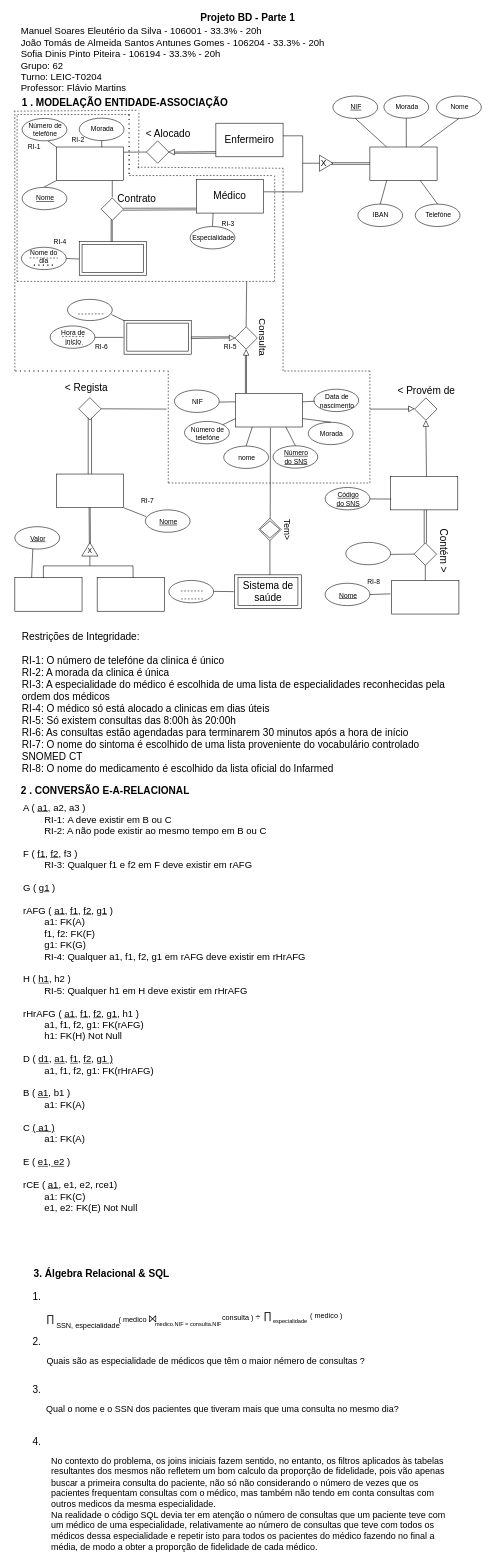
Some shapes in this 495 by 1566 pixel diagram are drawn without their labels. The box of each missing label's shape, as (x1, y1, x2, y2) in pixels:
Clinica: (56, 146, 123, 181)
data: (67, 299, 112, 321)
Dia da semana: (81, 244, 144, 272)
Horário: (126, 323, 188, 351)
Medicamento: (391, 580, 459, 614)
Nome do sistema: (168, 580, 214, 603)
Paciente: (235, 393, 303, 427)
Profissionais de saúde: (369, 146, 437, 181)
Qualitativo: (97, 577, 164, 611)
Quantidade: (345, 542, 391, 565)
Quantitativo: (14, 577, 82, 611)
Receita Médica: (390, 476, 458, 510)
Sintoma: (56, 473, 123, 508)
